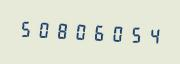eight: (53, 18, 70, 42)
five: (17, 16, 34, 41), (125, 21, 142, 46)
four: (143, 22, 160, 47)
six: (89, 19, 106, 44)
zero: (35, 17, 52, 42), (107, 20, 124, 45), (71, 19, 88, 43)
